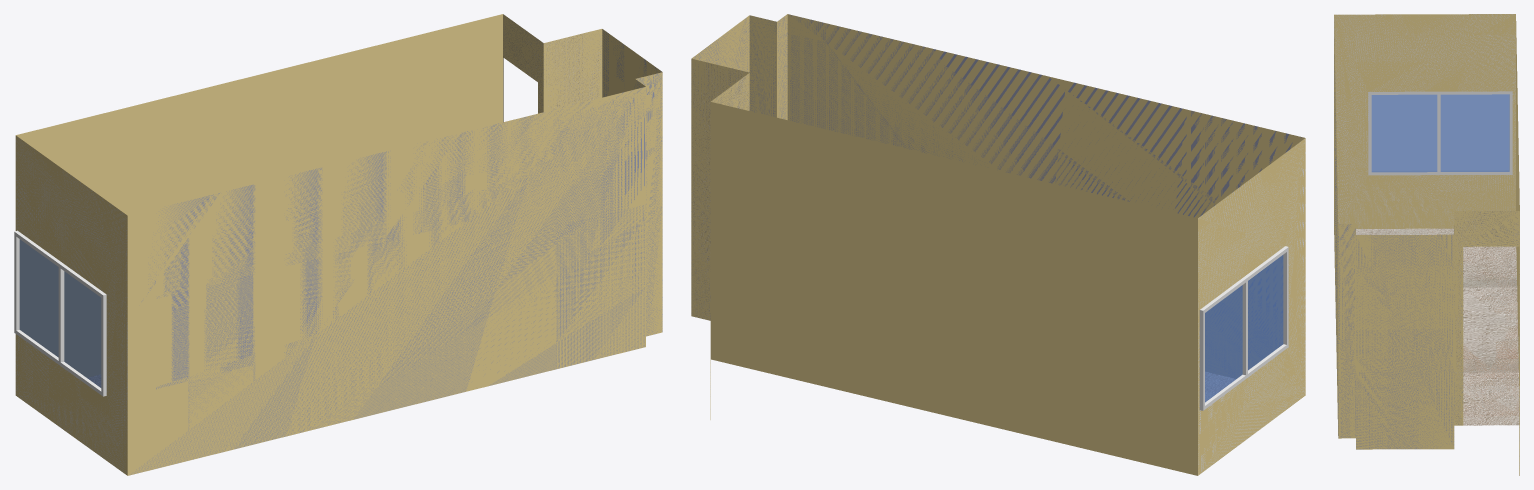
Rendered from DES032.obj.
3 renders of one model, left to right at view 1: azimuth 30°, elevation 25°; view 2: azimuth 150°, elevation 25°; view 3: azimuth 270°, elevation 25°, orthographic. The views are drawn at different scales.
Visible parts, largest first — view 1: Mesh6 DES032 Model, Mesh1 ventana2_1 DES032 Model; view 2: Mesh6 DES032 Model, Mesh1 ventana2_1 DES032 Model; view 3: Mesh6 DES032 Model, Mesh1 ventana2_1 DES032 Model.
Part boxes in pixels (bbox=[...]): Mesh6 DES032 Model: bbox=[15, 14, 662, 475]; Mesh1 ventana2_1 DES032 Model: bbox=[14, 230, 106, 396]; Mesh6 DES032 Model: bbox=[691, 14, 1305, 475]; Mesh1 ventana2_1 DES032 Model: bbox=[1199, 246, 1288, 410]; Mesh6 DES032 Model: bbox=[1334, 14, 1519, 475]; Mesh1 ventana2_1 DES032 Model: bbox=[1368, 91, 1512, 175].
Size of the model in its own units: 8.01 by 4.45 by 2.83.
8 materials, 2 textured.
